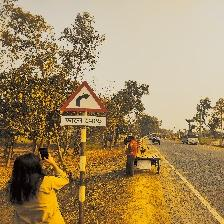Right-turn: (59, 82, 107, 127)
